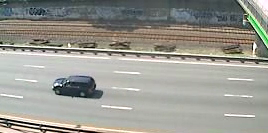car: (50, 72, 100, 99)
